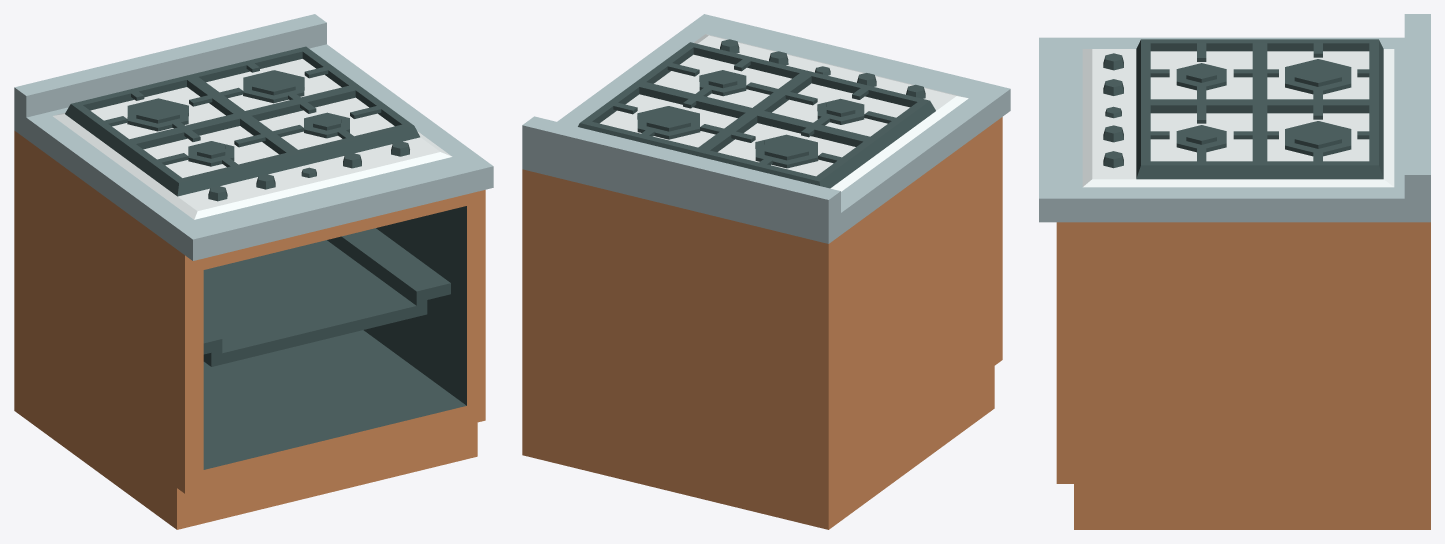
Rendered from kitchenStove.glb.
3 renders of one model, left to right at view 1: azimuth 30°, elevation 25°; view 2: azimuth 150°, elevation 25°; view 3: azimuth 270°, elevation 25°, orthographic. The views are drawn at different scales.
Visible parts, largest first — view 1: kitchenStove; view 2: kitchenStove; view 3: kitchenStove.
Part boxes in pixels (left/top/right/bottom): kitchenStove: left=14, top=14, right=493, bottom=529; kitchenStove: left=522, top=14, right=1010, bottom=529; kitchenStove: left=1039, top=14, right=1430, bottom=529.
Bounding box in the file's own units: 0.9868 × 1.02 × 1.02.
